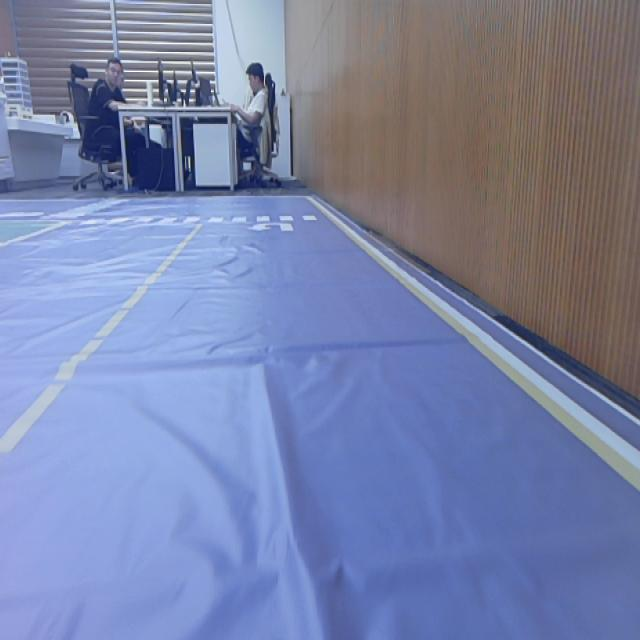left_lane: (0, 224, 203, 463)
right_lane: (306, 196, 640, 489)
